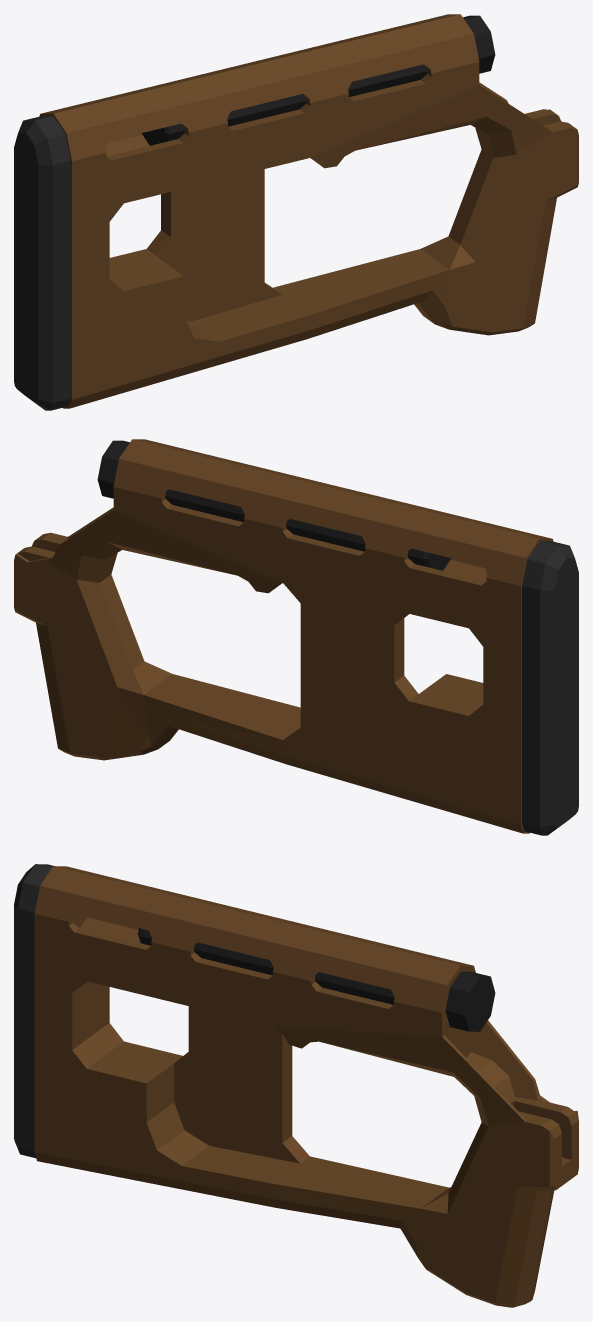
The model's file is adar_2-15_stock.glb.
3 views of the same model, one above another, from view 1: azimuth 30°, elevation 25°; view 2: azimuth 150°, elevation 25°; view 3: azimuth 330°, elevation 25° (orthographic).
Visible parts, largest first — view 1: adar215 stock_12 (×3); view 2: adar215 stock_12 (×3); view 3: adar215 stock_12 (×3).
Part boxes in pixels (bbox=[...]): adar215 stock_12 (×3): bbox=[14, 14, 578, 410]; adar215 stock_12 (×3): bbox=[14, 439, 578, 835]; adar215 stock_12 (×3): bbox=[14, 864, 578, 1307].
Bounding box in the file's own units: 2.98 × 1.69 × 0.3564.
